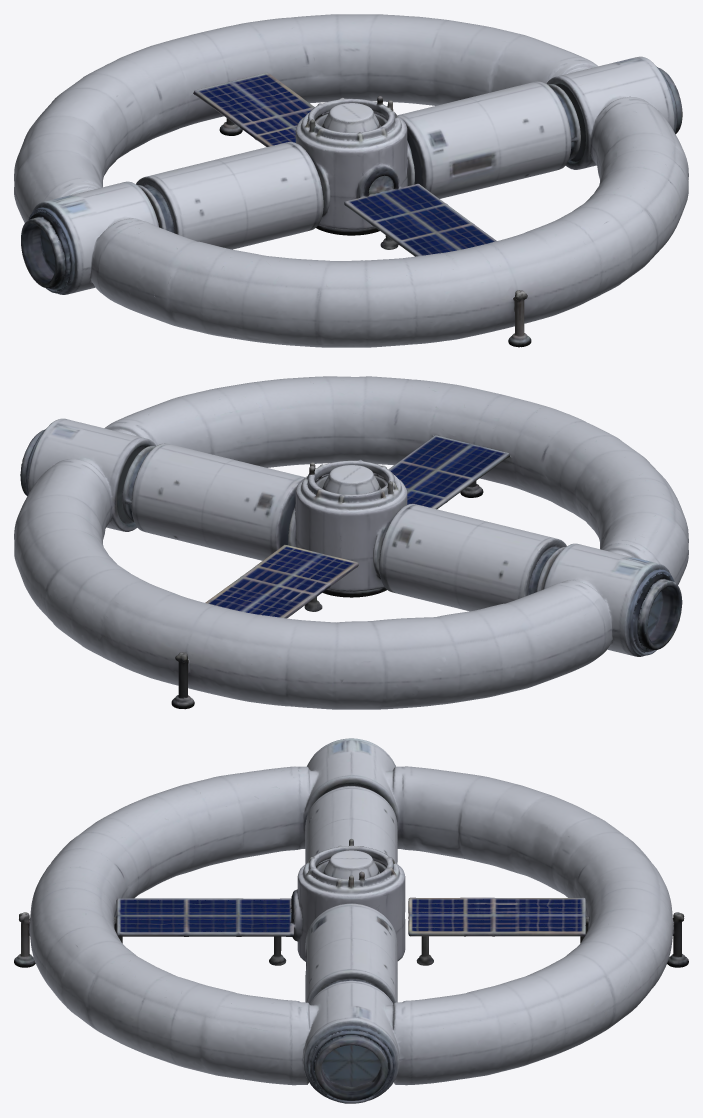
Rendered from helios_station3.glb.
3 views of the same model, one above another, from view 1: azimuth 30°, elevation 25°; view 2: azimuth 150°, elevation 25°; view 3: azimuth 270°, elevation 25° (orthographic). The views are drawn at different scales.
Visible parts, largest first — view 1: statue; view 2: statue; view 3: statue.
Part boxes in pixels (<box>): statue: <box>14,14,688,347</box>; statue: <box>14,376,688,709</box>; statue: <box>14,738,688,1103</box>.
Size of the model in its own units: 34 by 5.79 by 32.75.
1 material, 1 textured.
